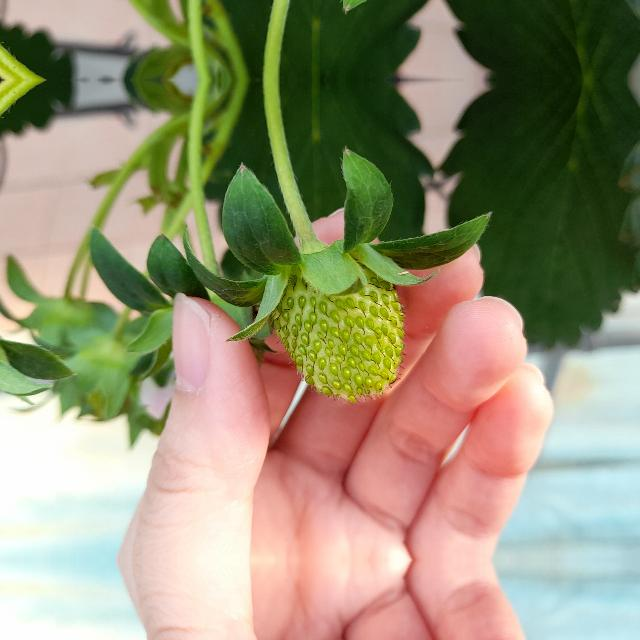Health_25: (271, 266, 404, 404)
